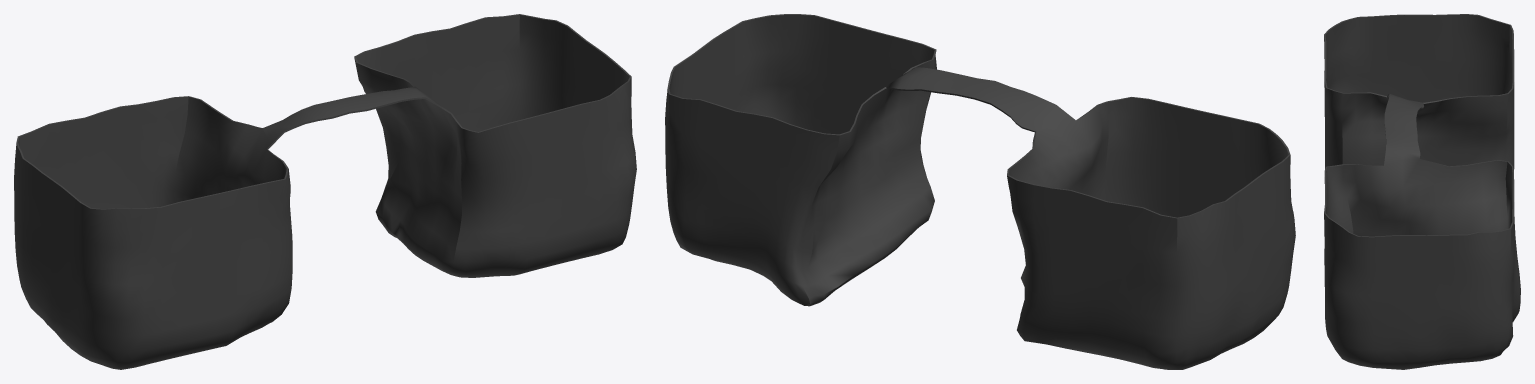
Rendered from tempat barang_beat.fbx.
3 views of the same model, side by side, from view 1: azimuth 30°, elevation 25°; view 2: azimuth 150°, elevation 25°; view 3: azimuth 270°, elevation 25° (orthographic). The views are drawn at different scales.
Parts seen in each view (by area): view 1: Cube.001; view 2: Cube.001; view 3: Cube.001.
Boxes of the visible parts, box(x1,y1,x2,y2) form: Cube.001: box(14, 14, 636, 369); Cube.001: box(665, 14, 1295, 369); Cube.001: box(1324, 14, 1520, 369).
Bounding box in the file's own units: 103 × 35.87 × 38.76.
